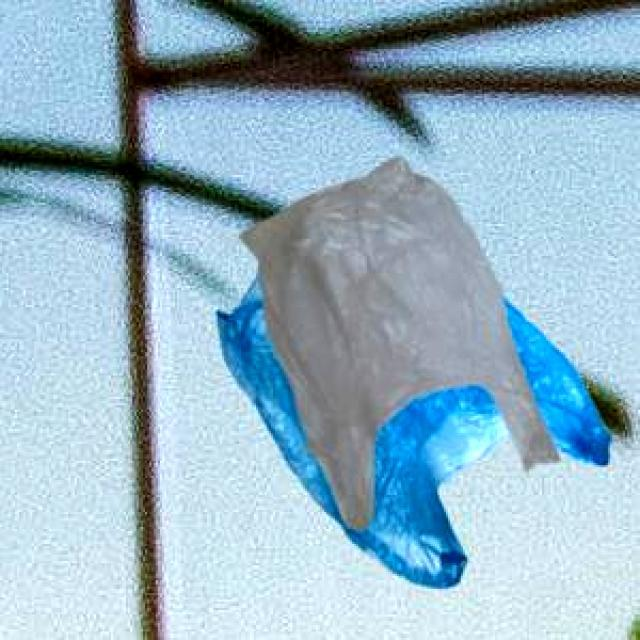Plastic_Bag: (214, 272, 609, 586), (238, 152, 556, 528)
